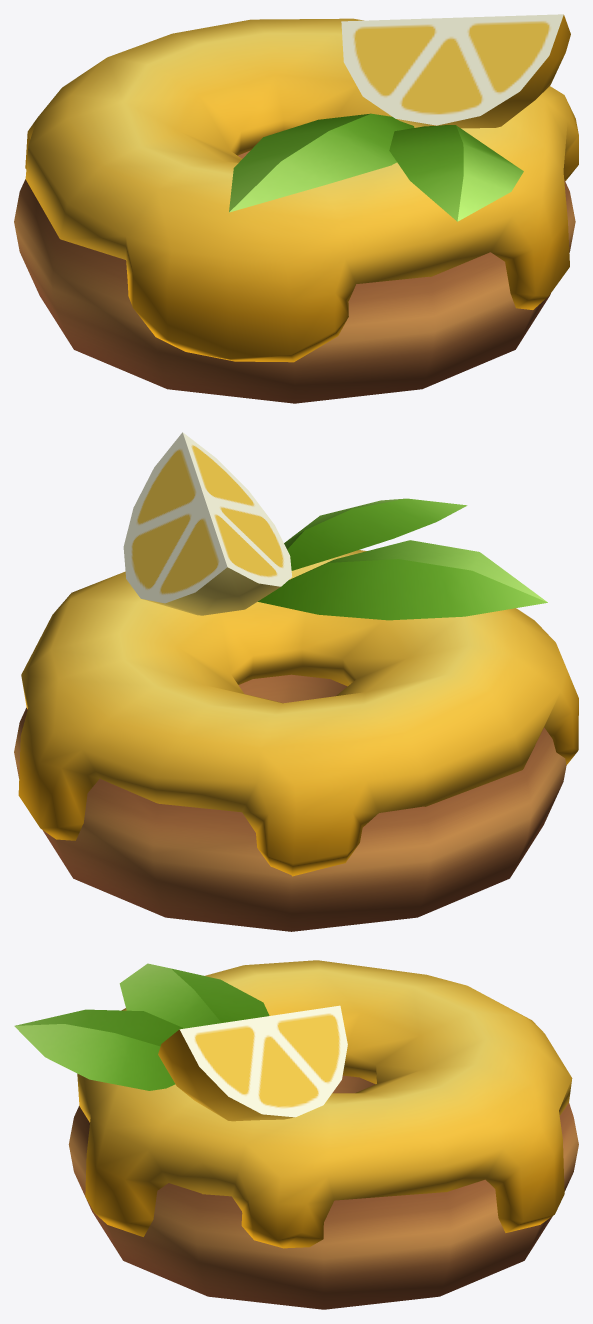
Rendered from m_Donut14.fbx.
The picture shows the model from 3 angles, top to bottom: view 1: azimuth 30°, elevation 25°; view 2: azimuth 150°, elevation 25°; view 3: azimuth 270°, elevation 25°; orthographic projection. The views are drawn at different scales.
Parts seen in each view (by area): view 1: m_Donut14; view 2: m_Donut14; view 3: m_Donut14.
Boxes of the visible parts, box(x1,y1,x2,y2) form: m_Donut14: box(14, 14, 578, 403); m_Donut14: box(14, 432, 578, 931); m_Donut14: box(14, 960, 578, 1309).
Bounding box in the file's own units: 12.47 × 7.74 × 13.47.
